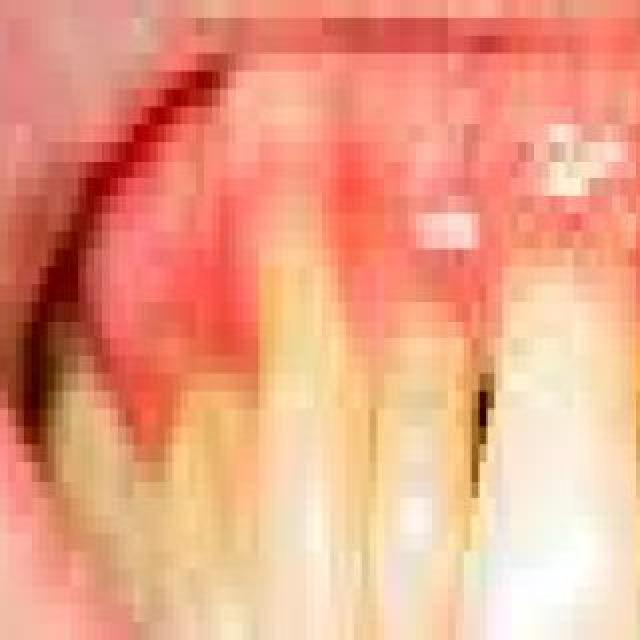spacing: (443, 380, 527, 516), (624, 374, 640, 576)
